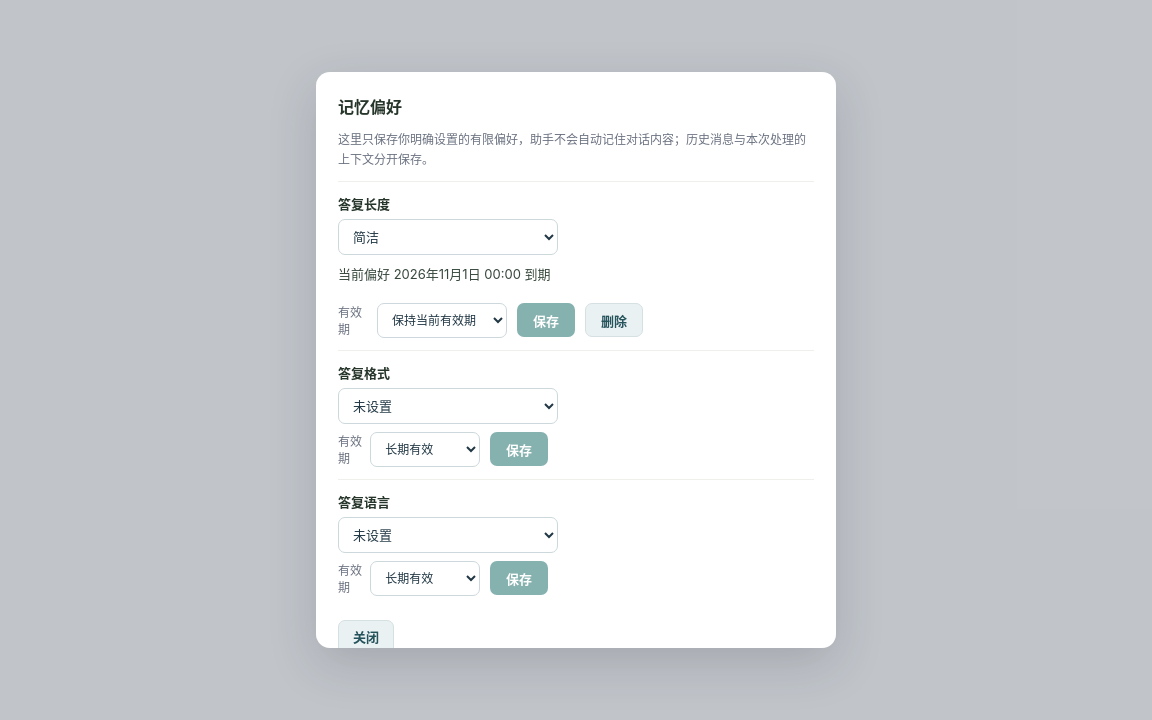
Test: saving posts the confirmed value with profile revision and expiry
This screenshot has width=1152, height=720.
Select "中文" in the dropdown with test id "pref-language" at coordinates (448, 535), box [338,517,558,553]
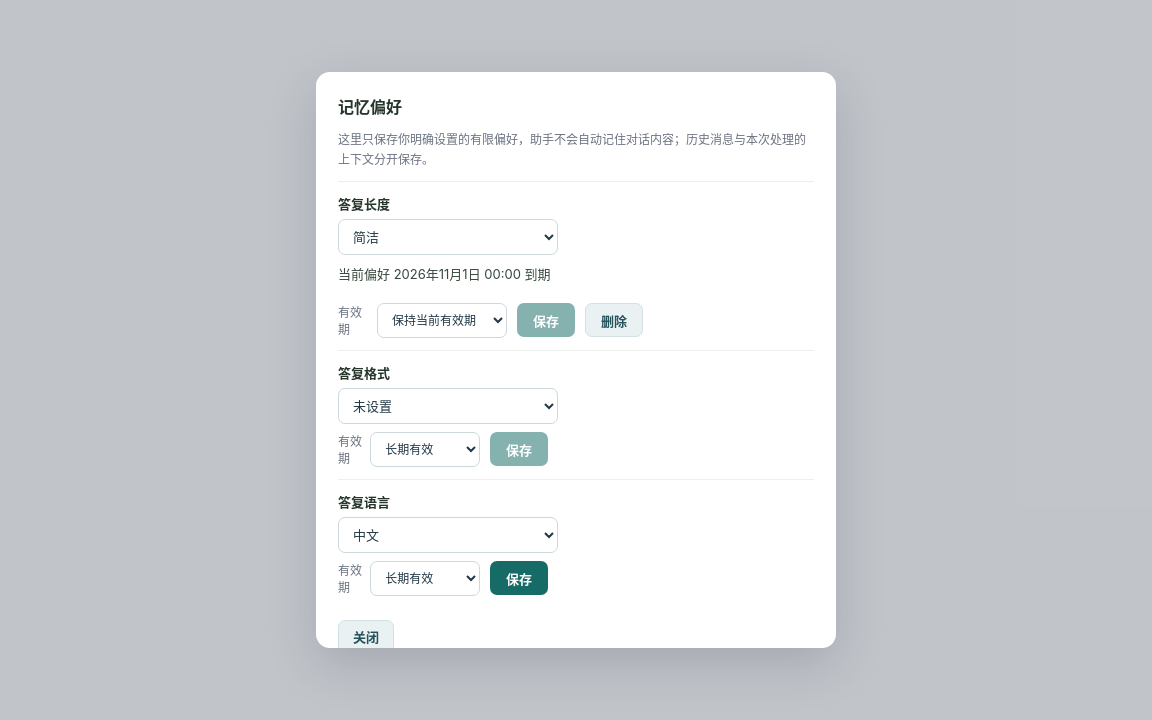
Select "保存 30 天" in the dropdown with test id "expiry-language" at coordinates (425, 578), box [370,561,480,596]
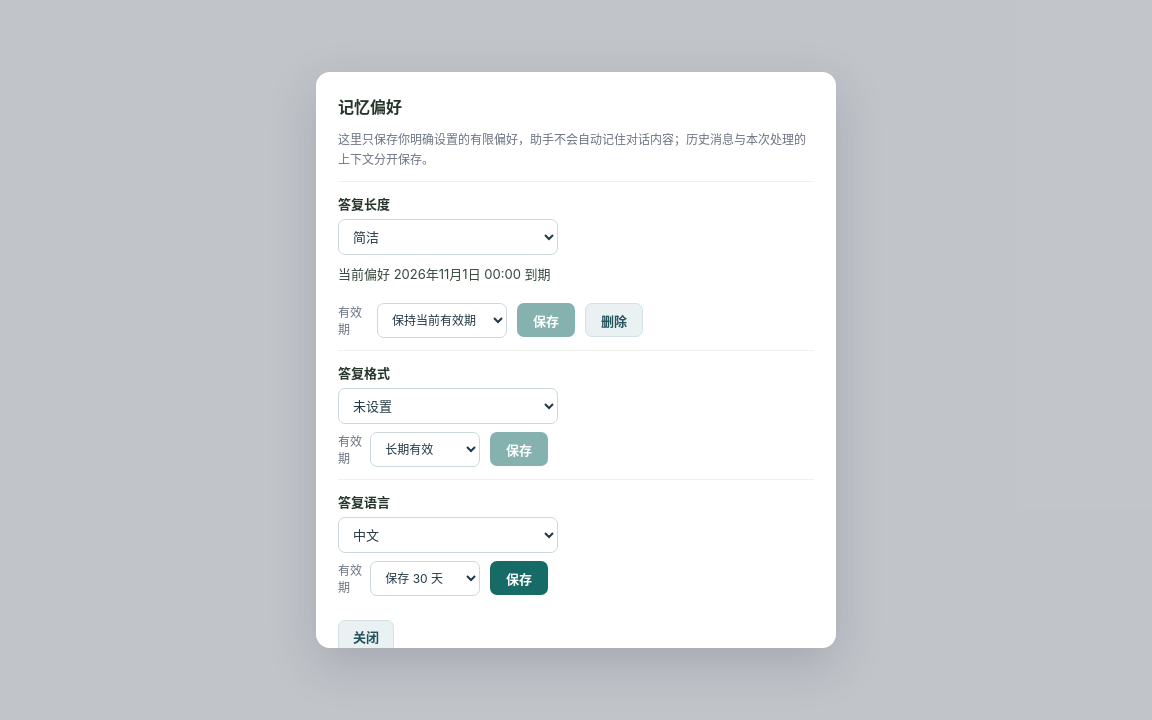
Click the button with test id "save-language" at coordinates (519, 578), box [490,561,548,595]
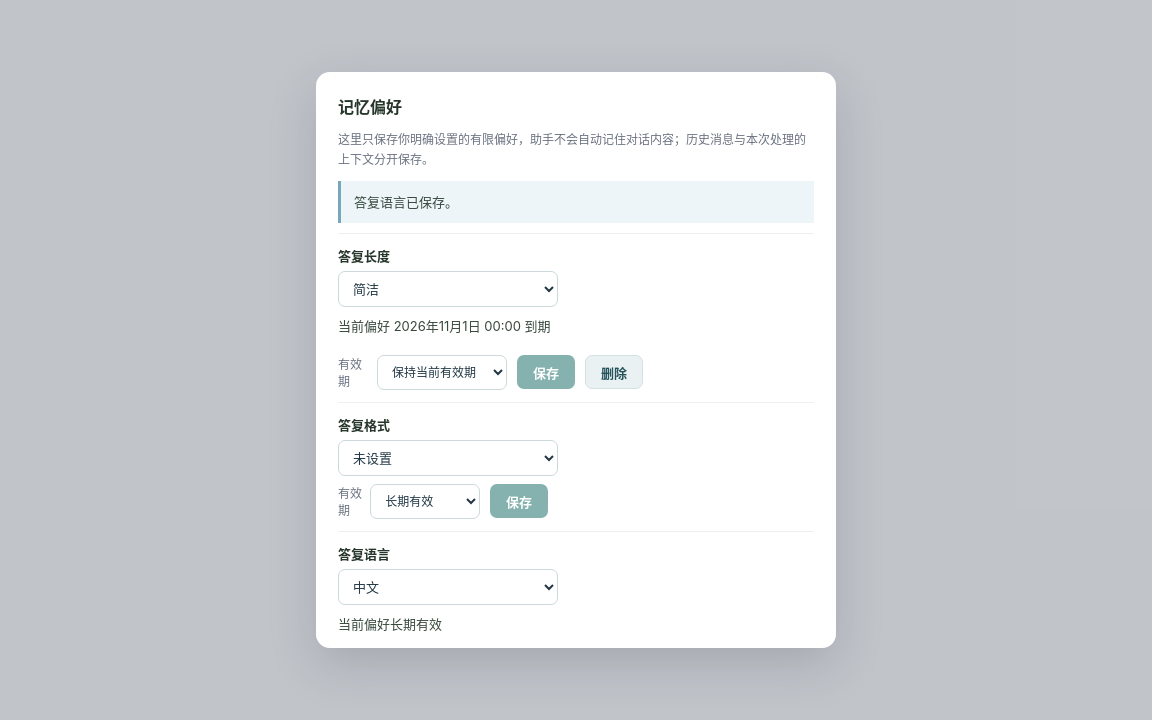
Expected: the text "已保存" is shown, [338,181,814,223]
